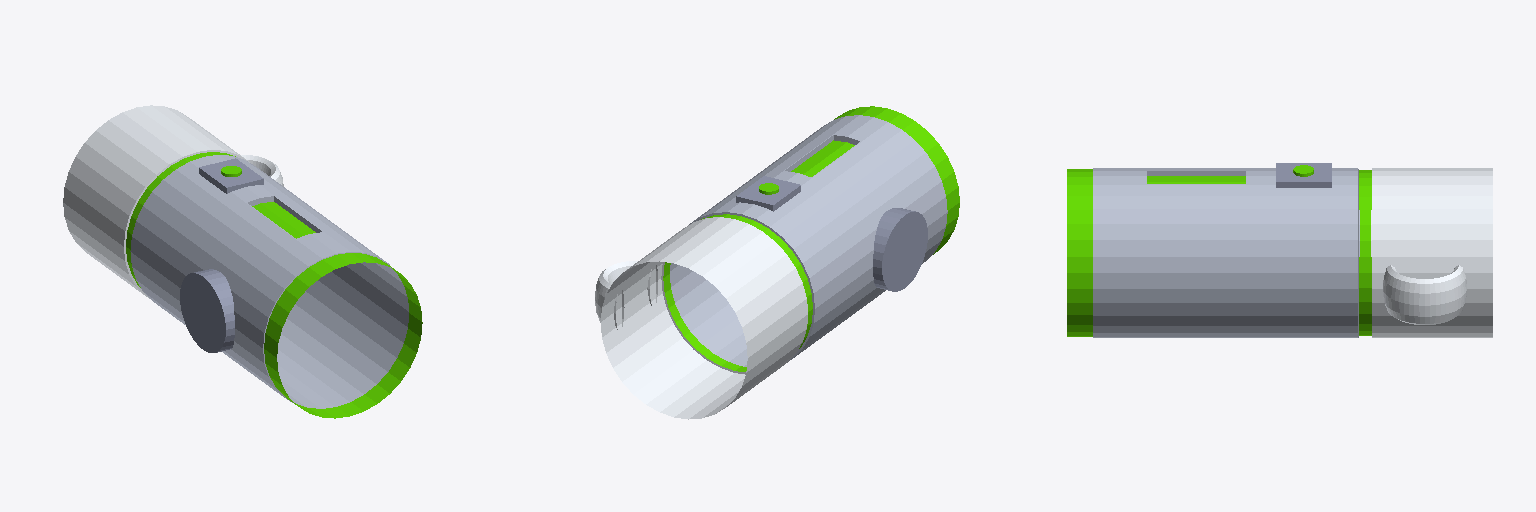
The picture shows the model from 3 angles: view 1: azimuth 30°, elevation 25°; view 2: azimuth 150°, elevation 25°; view 3: azimuth 270°, elevation 25°; orthographic projection.
Parts seen in each view (by area): view 1: Termo_Cylinder_Thermos_down_Cylinder.007; view 2: Termo_Cylinder_Thermos_down_Cylinder.007; view 3: Termo_Cylinder_Thermos_down_Cylinder.007.
Part boxes in pixels (bbox=[...]): Termo_Cylinder_Thermos_down_Cylinder.007: bbox=[63, 105, 422, 418]; Termo_Cylinder_Thermos_down_Cylinder.007: bbox=[595, 106, 959, 419]; Termo_Cylinder_Thermos_down_Cylinder.007: bbox=[1067, 163, 1492, 337].
Size of the model in its own units: 8.33 by 6.72 by 16.17.
Materials: 9 (4 with a texture image).